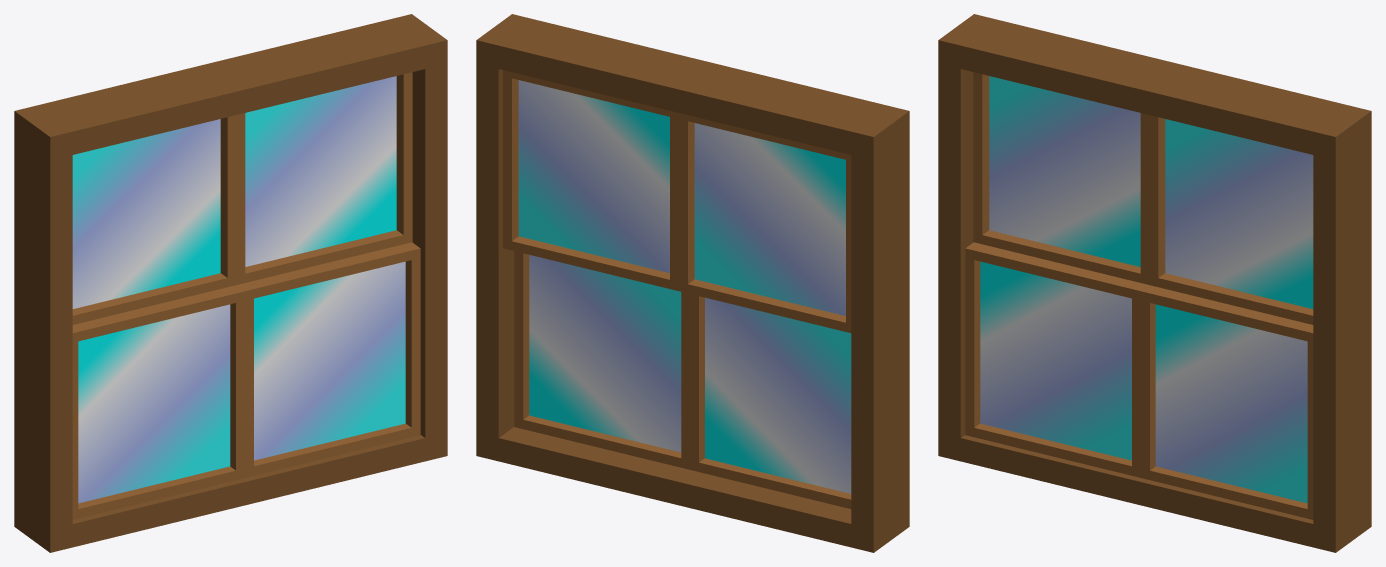
File: janela.FBX
3 renders of one model, left to right at view 1: azimuth 30°, elevation 25°; view 2: azimuth 150°, elevation 25°; view 3: azimuth 330°, elevation 25°, orthographic.
Parts seen in each view (by area): view 1: janela mestre, janela, janela2; view 2: janela mestre, janela2, janela; view 3: janela mestre, janela, janela2.
Boxes of the visible parts, x1,y1,x2,y2 form: janela mestre: [14, 14, 447, 552]; janela: [72, 242, 420, 519]; janela2: [72, 72, 412, 324]; janela mestre: [476, 14, 909, 552]; janela2: [503, 70, 851, 332]; janela: [514, 251, 851, 508]; janela mestre: [938, 14, 1371, 552]; janela: [965, 242, 1313, 519]; janela2: [973, 72, 1313, 324].
Size of the model in its own units: 39.37 by 39.37 by 6.13.
Materials: 2 (2 with a texture image).
